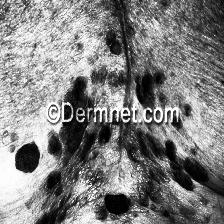Benign Marking or Mole: (13, 70, 217, 224), (62, 74, 101, 184), (14, 142, 42, 172), (184, 156, 209, 183), (104, 192, 132, 216), (173, 168, 193, 187)
